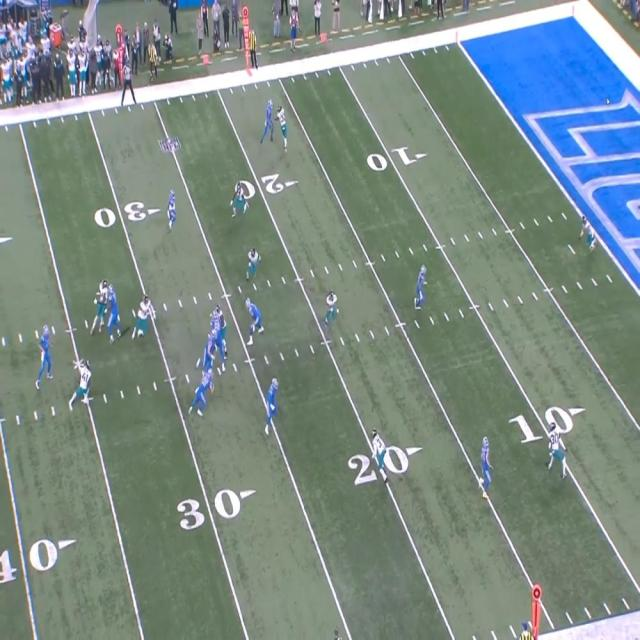db: (546, 428, 562, 472), (277, 104, 288, 154), (234, 184, 250, 217), (373, 430, 387, 465), (579, 217, 593, 250)
lb: (326, 290, 340, 326), (250, 247, 260, 277)
qb: (37, 332, 52, 382)
skill: (480, 437, 492, 494), (417, 268, 430, 309), (199, 370, 211, 414), (168, 187, 178, 230), (264, 96, 273, 126)
